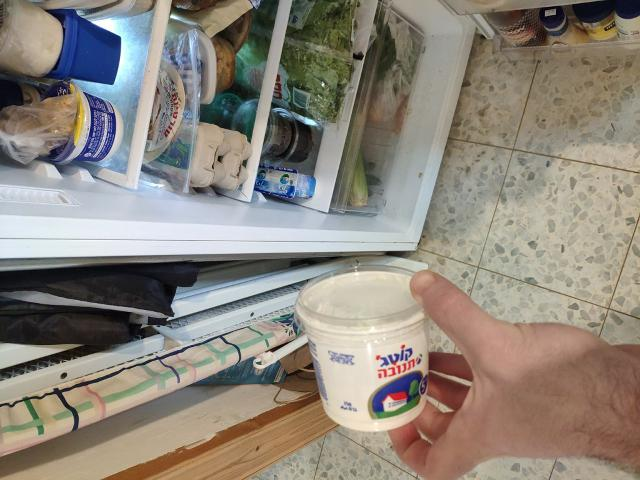cotage: (291, 268, 445, 432)
